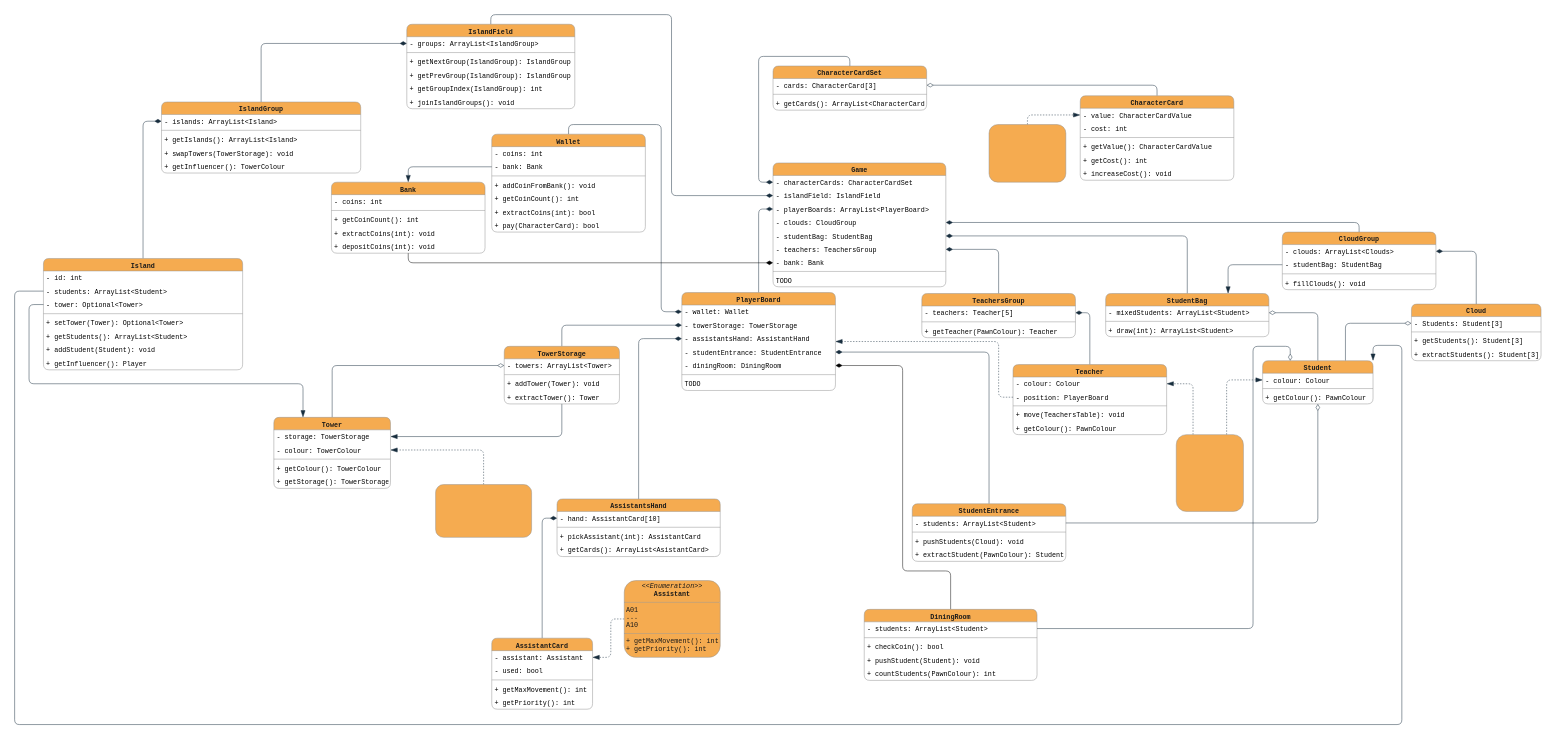
Some shapes in this 1549 by 740 pixel diagram are drawn without their labels. Each missing label, with the centre of its shape:
<<Enumeration>> CharacterCardValue C01 ... C12: the point at 1027,153
<<Enumeration>> PawnColour BLUE GREEN PINK RED YELLOW: the point at 1209,472
<<Enumeration>> TowerColour Black White Gray: the point at 483,510
